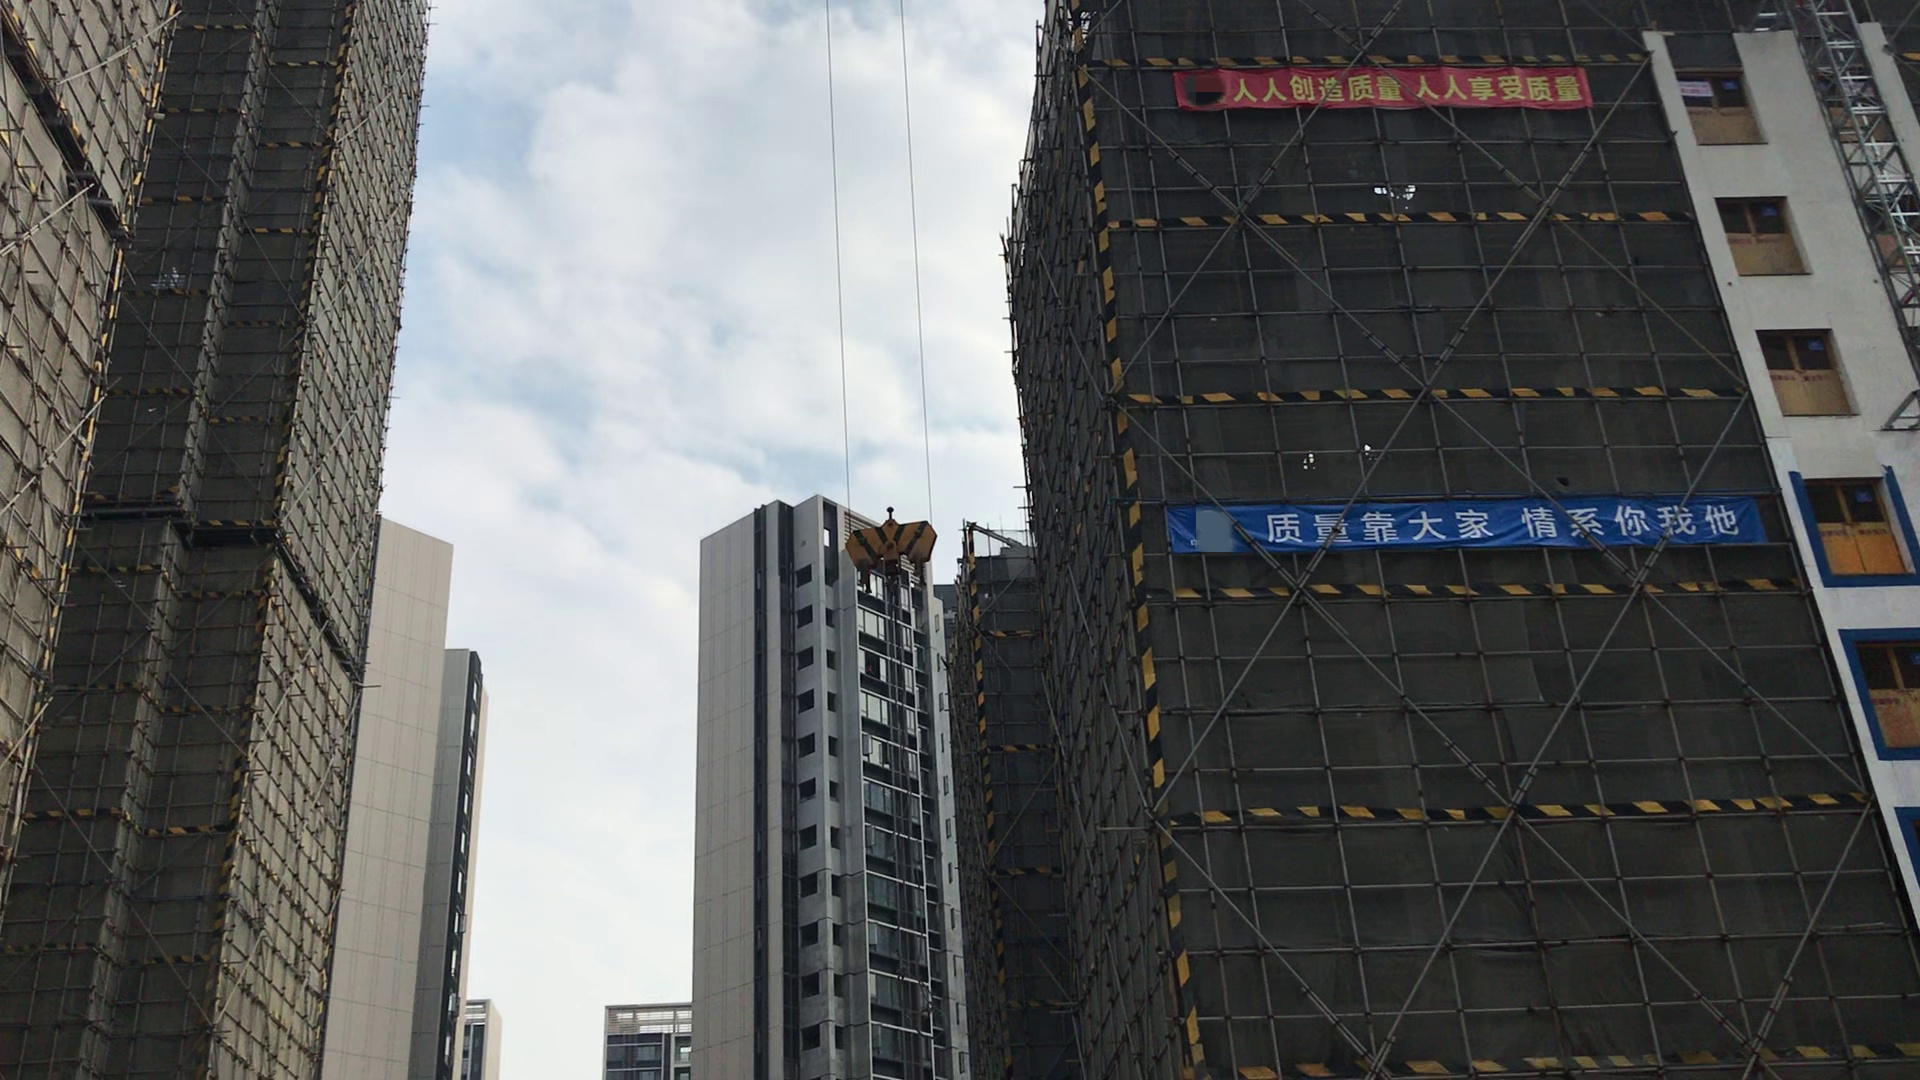hook: (839, 502, 940, 595)
slogan: (1174, 498, 1756, 543), (1178, 63, 1577, 108)
